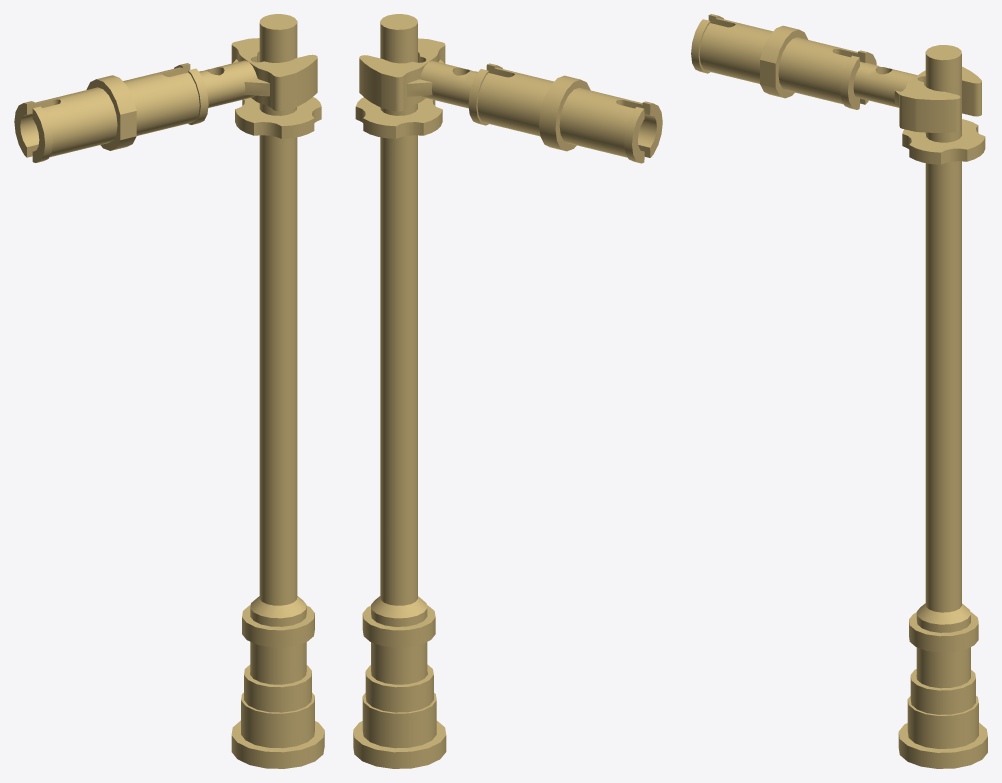
File: stick.fbx
The picture shows the model from 3 angles, left to right: view 1: azimuth 30°, elevation 25°; view 2: azimuth 150°, elevation 25°; view 3: azimuth 330°, elevation 25°; orthographic projection. The views are drawn at different scales.
Visible parts, largest first — view 1: Part.27; view 2: Part.27; view 3: Part.27.
Boxes of the visible parts, x1,y1,x2,y2 form: Part.27: (14, 14, 324, 768); Part.27: (353, 14, 662, 768); Part.27: (691, 14, 987, 768).
Bounding box in the file's own units: 573 × 1380 × 163.
